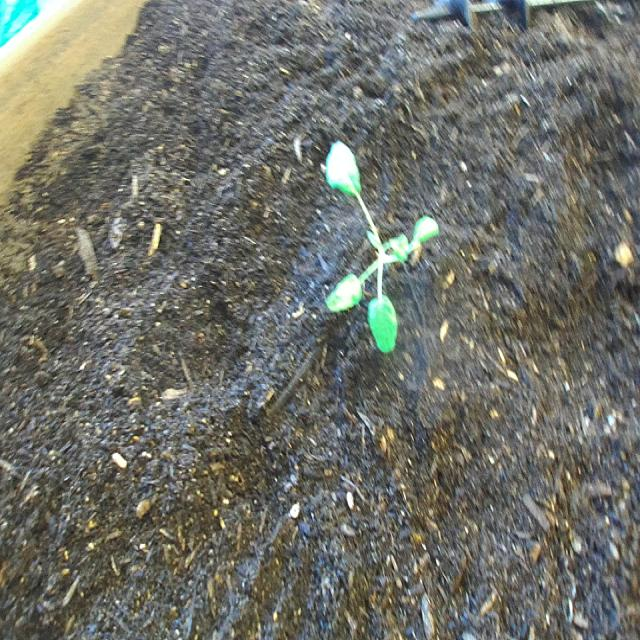Healthy: (302, 98, 449, 380)
